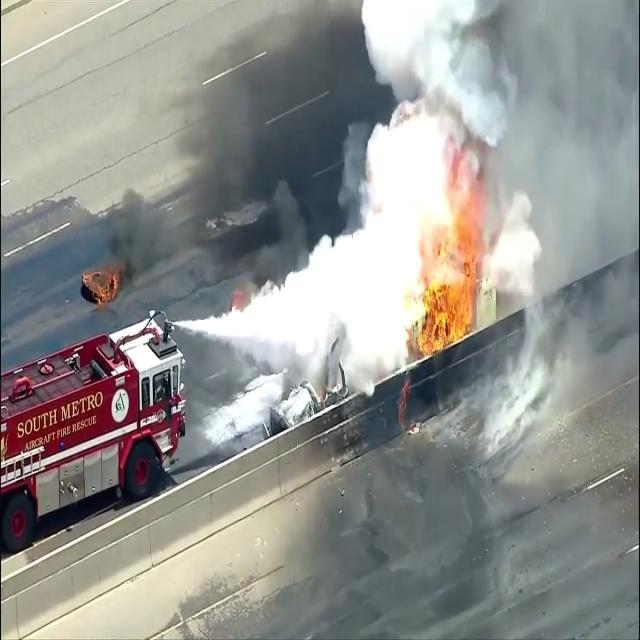Smoke: (69, 1, 603, 362), (484, 2, 638, 329)
